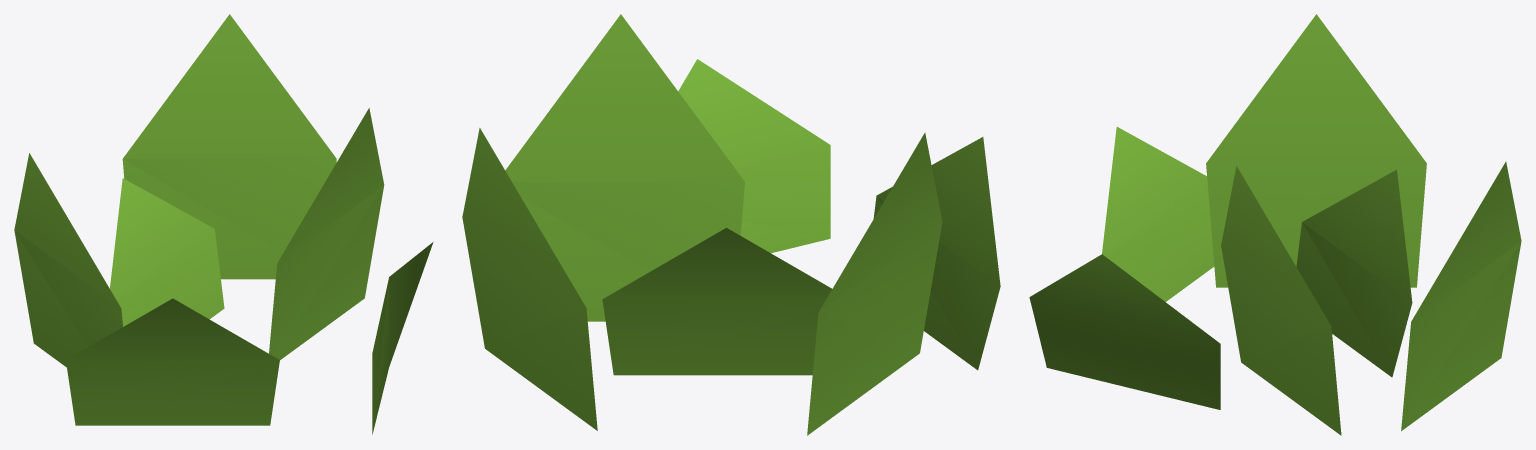
Rendered from grass_leafs.glb.
3 renders of one model, left to right at view 1: azimuth 30°, elevation 25°; view 2: azimuth 150°, elevation 25°; view 3: azimuth 270°, elevation 25°, orthographic. The views are drawn at different scales.
Visible parts, largest first — view 1: grass_leafs; view 2: grass_leafs; view 3: grass_leafs.
Part boxes in pixels (x1=…): grass_leafs: x1=14, y1=14, x2=433, y2=434; grass_leafs: x1=462, y1=14, x2=1000, y2=435; grass_leafs: x1=1029, y1=14, x2=1521, y2=435.
Size of the model in its own units: 0.3752 by 0.228 by 0.4117.
